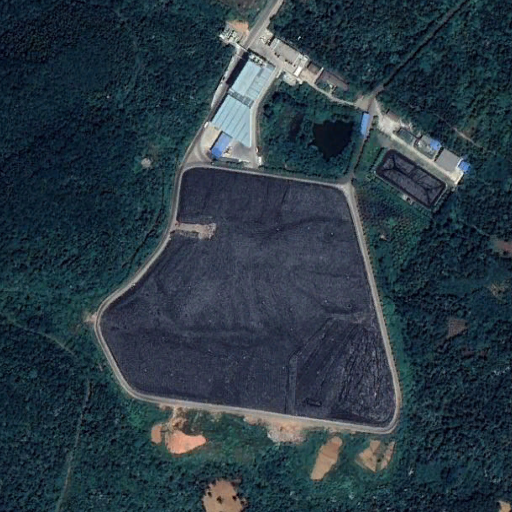lf: (99, 162, 398, 433)
